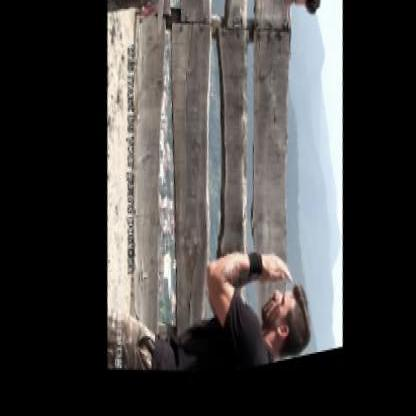knife: (147, 0, 183, 53)
